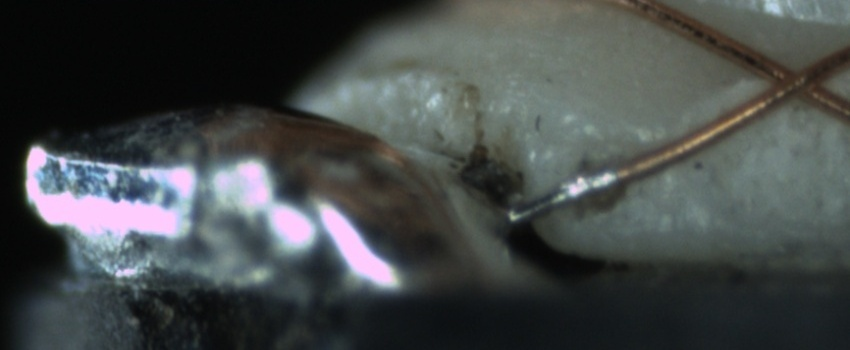CL: (747, 45, 838, 111)
TS: (495, 166, 613, 224)
TTCW: (501, 150, 650, 222)
